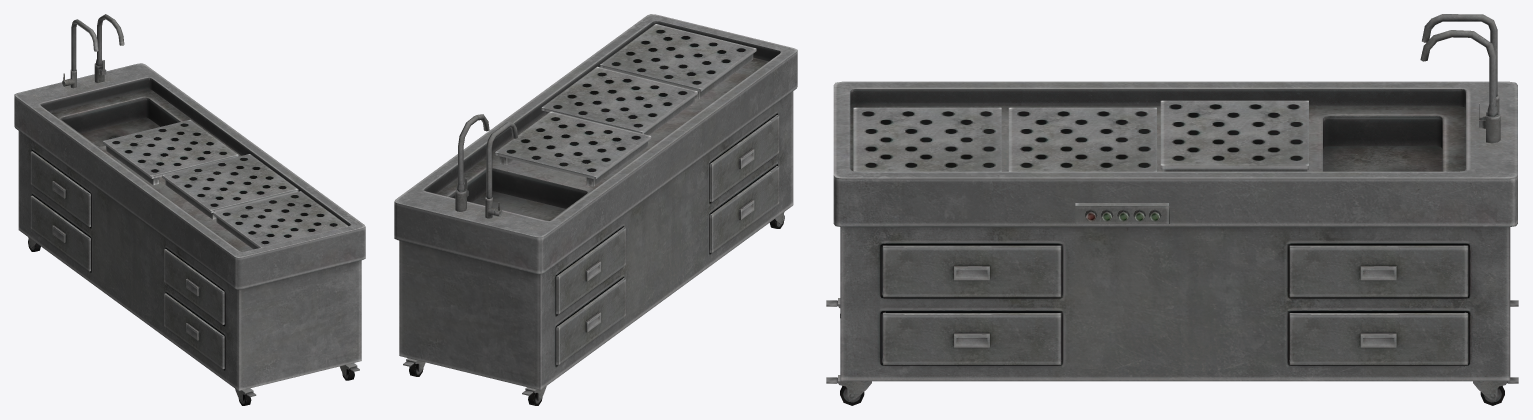
The model's file is Autopsy_Table_Solid.fbx.
The picture shows the model from 3 angles, left to right: view 1: azimuth 30°, elevation 25°; view 2: azimuth 150°, elevation 25°; view 3: azimuth 270°, elevation 25°; orthographic projection. The views are drawn at different scales.
Visible parts, largest first — view 1: Autopsy_Table_Solid; view 2: Autopsy_Table_Solid; view 3: Autopsy_Table_Solid.
Boxes of the visible parts, <box> form: Autopsy_Table_Solid: <box>14,14,365,405</box>; Autopsy_Table_Solid: <box>394,14,797,405</box>; Autopsy_Table_Solid: <box>826,14,1518,405</box>.
Bounding box in the file's own units: 69.6 × 110 × 200.
Materials: 1 (1 with a texture image).
